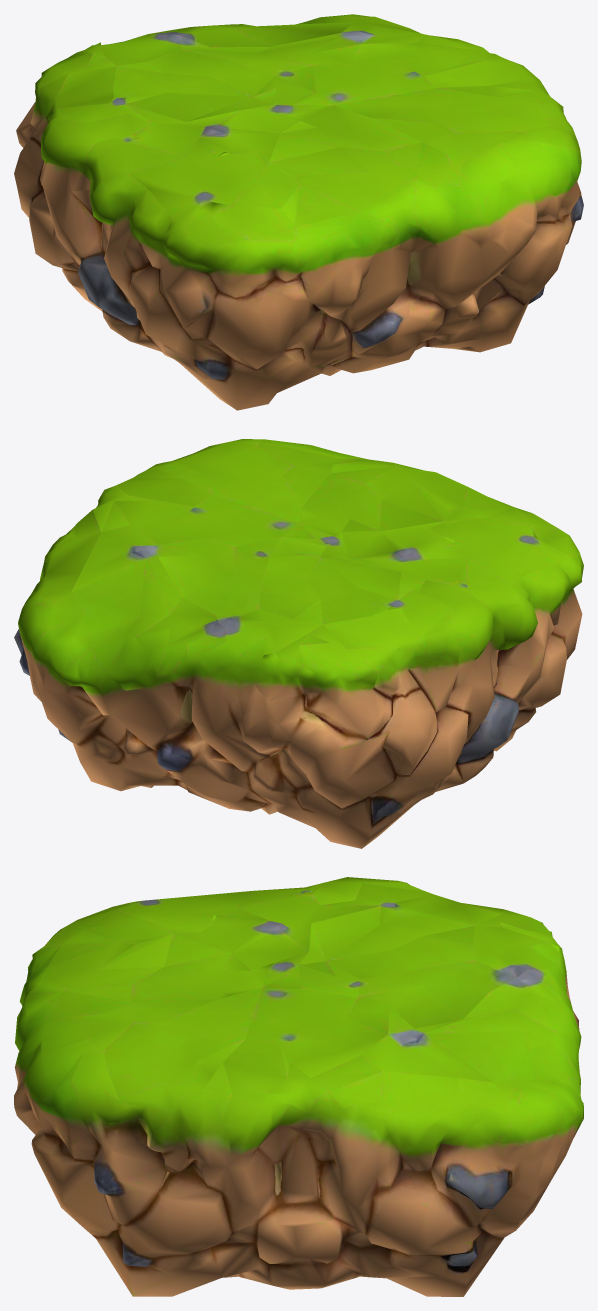
File: medium-floating-island.glb
3 renders of one model, top to bottom at view 1: azimuth 30°, elevation 25°; view 2: azimuth 150°, elevation 25°; view 3: azimuth 270°, elevation 25°, orthographic. The views are drawn at different scales.
Parts seen in each view (by area): view 1: Mesh_0.001; view 2: Mesh_0.001; view 3: Mesh_0.001.
Part boxes in pixels (box(x1,y1,x2,y2)): Mesh_0.001: box(14, 14, 583, 410); Mesh_0.001: box(14, 439, 583, 848); Mesh_0.001: box(14, 877, 583, 1296).
Size of the model in its own units: 1.88 by 0.9085 by 1.89.
Materials: 1 (1 with a texture image).
